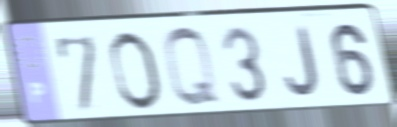3: (220, 23, 269, 107)
6: (328, 19, 377, 99)
7: (52, 32, 99, 115)
J: (282, 24, 322, 99)
O: (107, 28, 166, 113)
Q: (161, 24, 224, 112)
